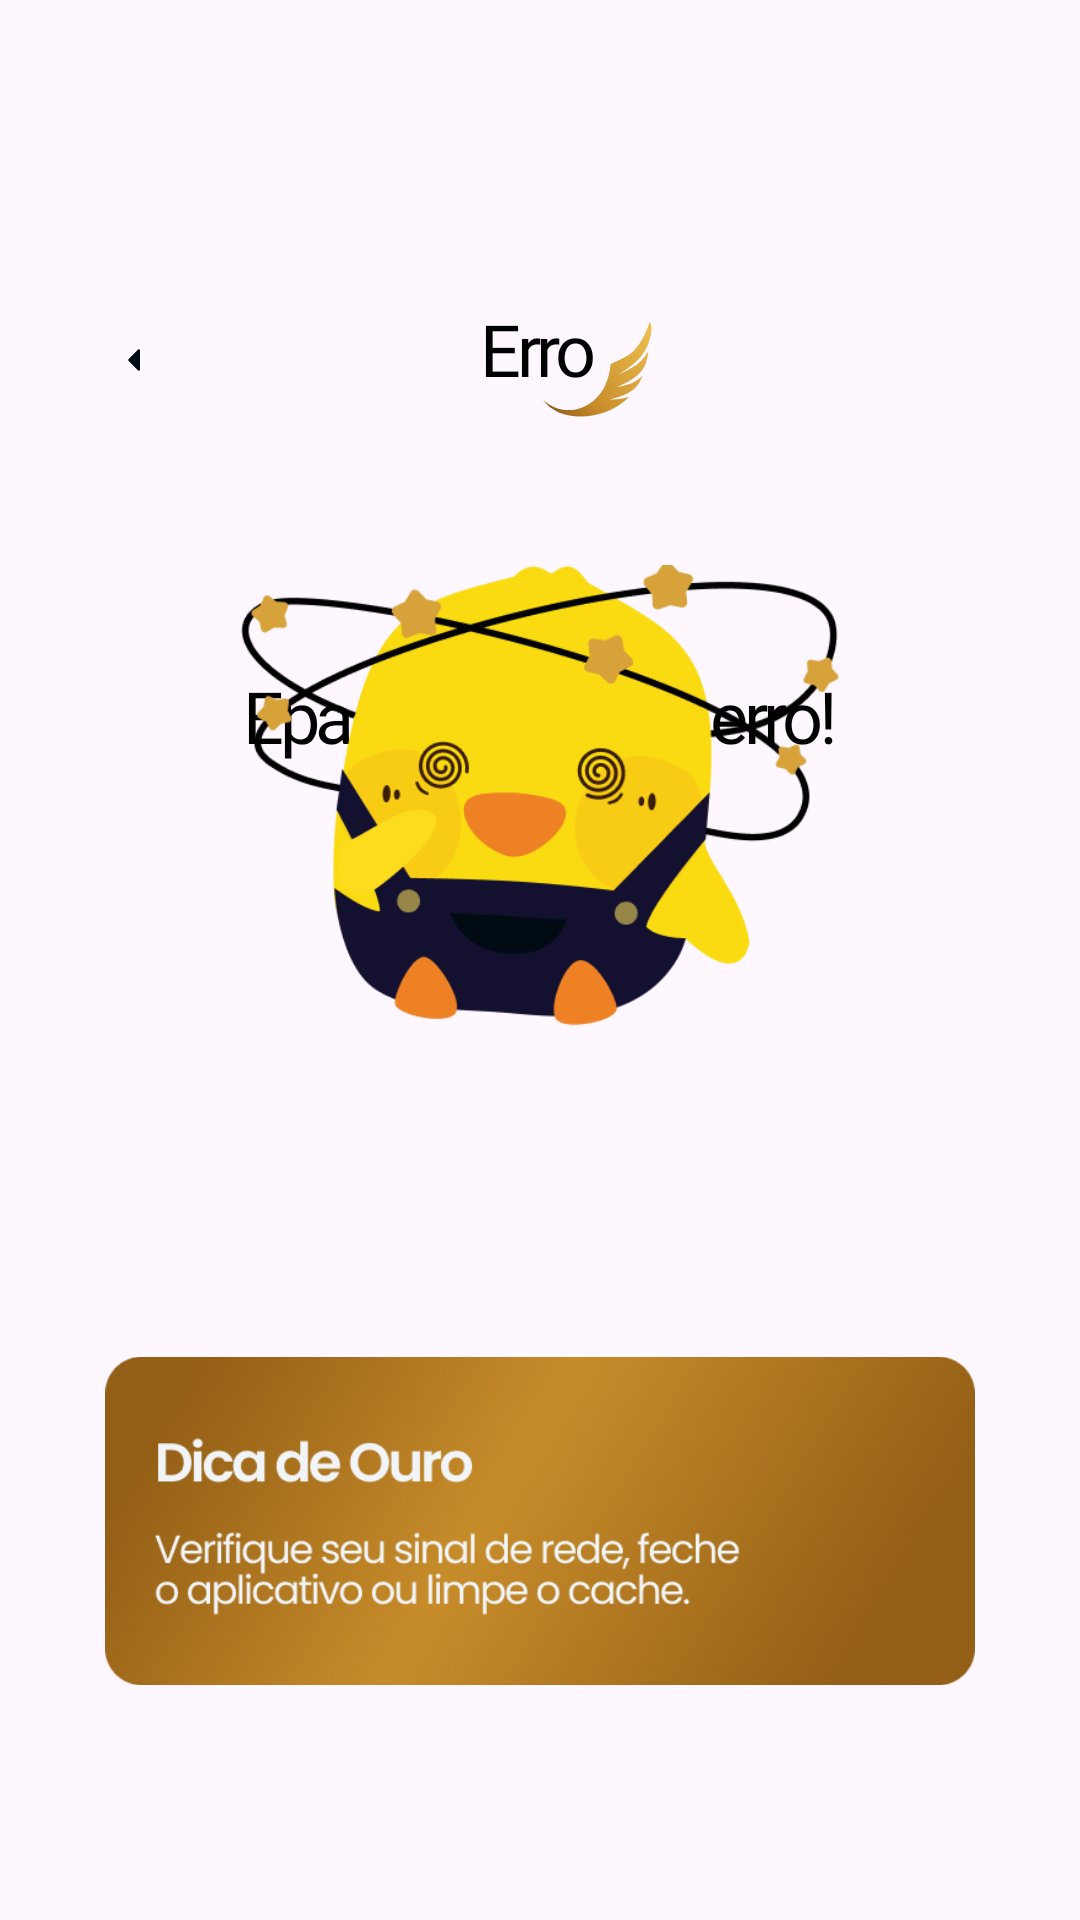

Where icons sit on this 1080w x 1920h app screen, as BBox(x1, y1, x2, y2):
ouros goldwings: BBox(543, 322, 652, 417)
